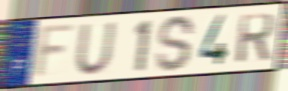1: (134, 18, 154, 74)
4: (197, 12, 230, 69)
F: (31, 21, 80, 82)
R: (234, 11, 277, 66)
S: (154, 14, 197, 74)
U: (74, 20, 118, 77)
